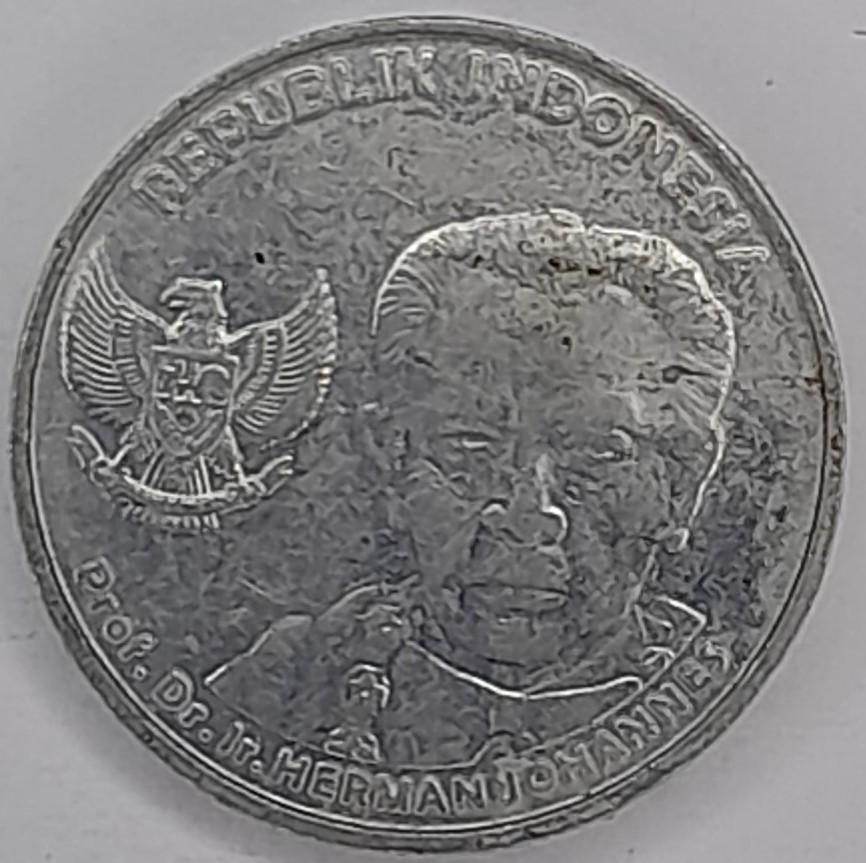coin_100_e2016: (3, 7, 853, 856)
